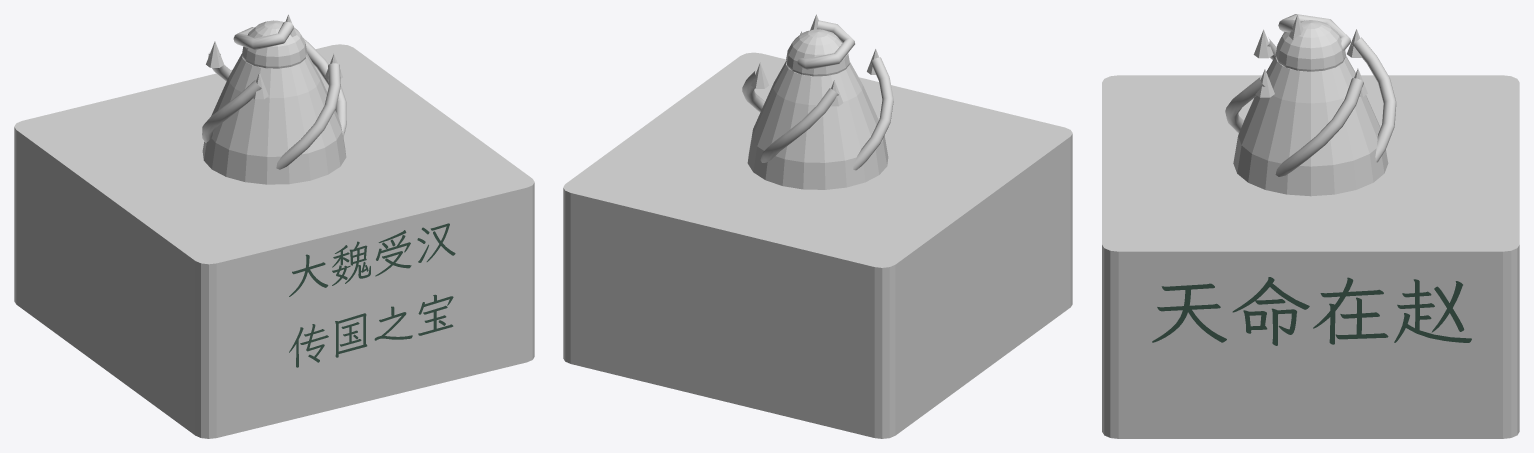
File: imperial_seal.glb
3 renders of one model, left to right at view 1: azimuth 30°, elevation 25°; view 2: azimuth 150°, elevation 25°; view 3: azimuth 270°, elevation 25°, orthographic. The views are drawn at different scales.
Parts seen in each view (by area): view 1: jade_body, gold_corner, dragon_knob, era_wei_a; view 2: jade_body, dragon_knob, gold_corner; view 3: jade_body, gold_corner, dragon_knob, era_wei_b.
Boxes of the visible parts, x1,y1,x2,y2 form: jade_body: [14, 44, 481, 438]; gold_corner: [371, 137, 534, 383]; dragon_knob: [202, 14, 346, 184]; era_wei_a: [289, 223, 455, 367]; jade_body: [563, 77, 1072, 438]; dragon_knob: [742, 14, 893, 189]; gold_corner: [691, 52, 786, 119]; jade_body: [1102, 75, 1519, 438]; gold_corner: [1102, 188, 1252, 438]; dragon_knob: [1225, 14, 1396, 196]; era_wei_b: [1152, 277, 1471, 345].
Size of the model in its own units: 3 by 2.7 by 3.
